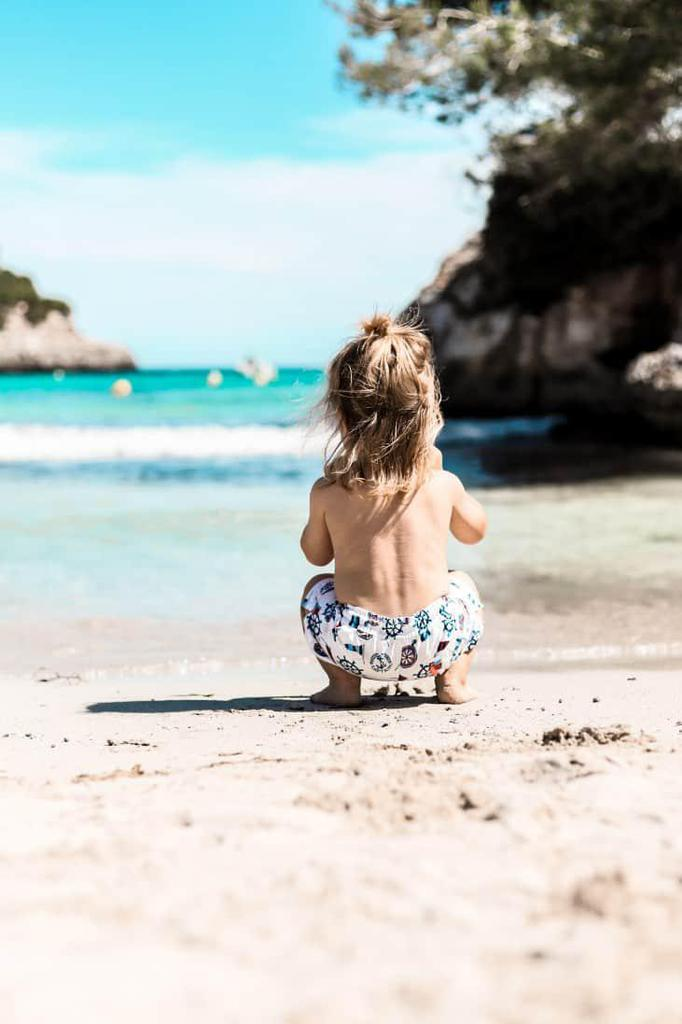child: (260, 306, 515, 724)
